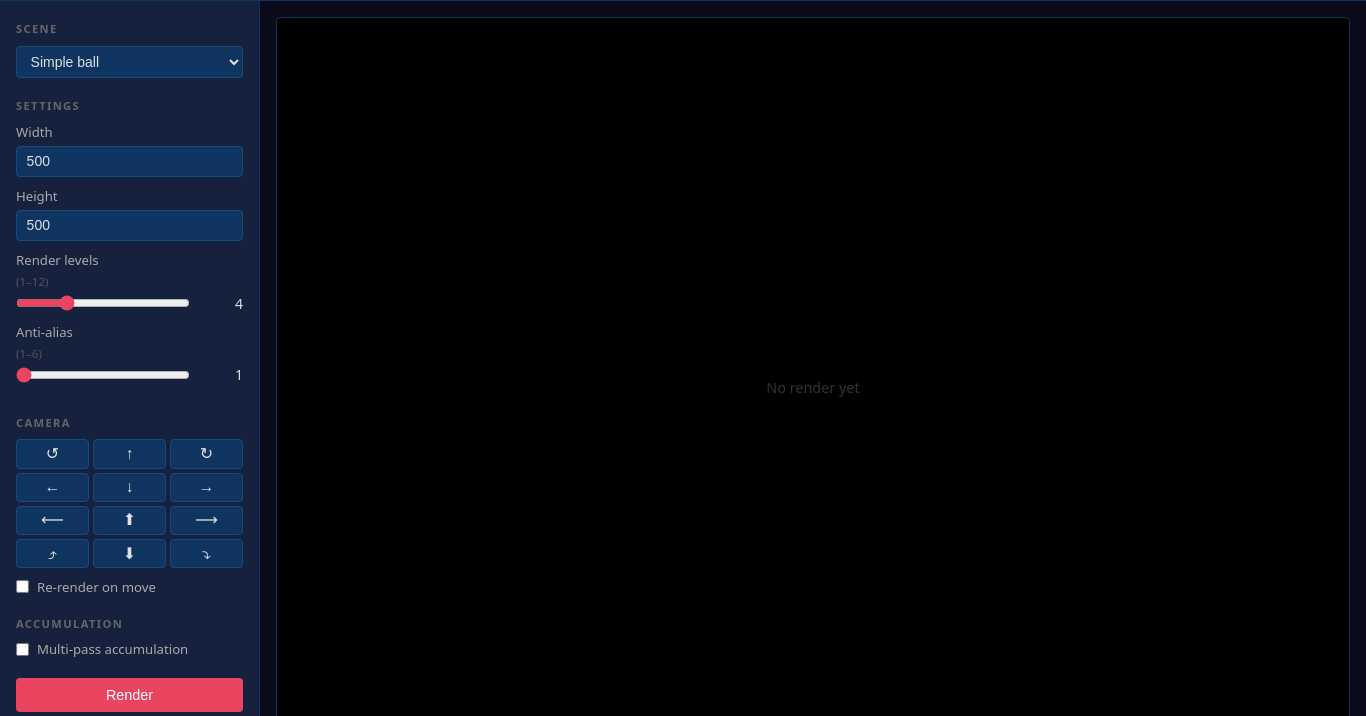
Test: progress polling › shows error message when render fails
Click the button "Render": (130, 695) left=16, top=678, right=243, bottom=712
Wait 500 ms
(page scrolled)
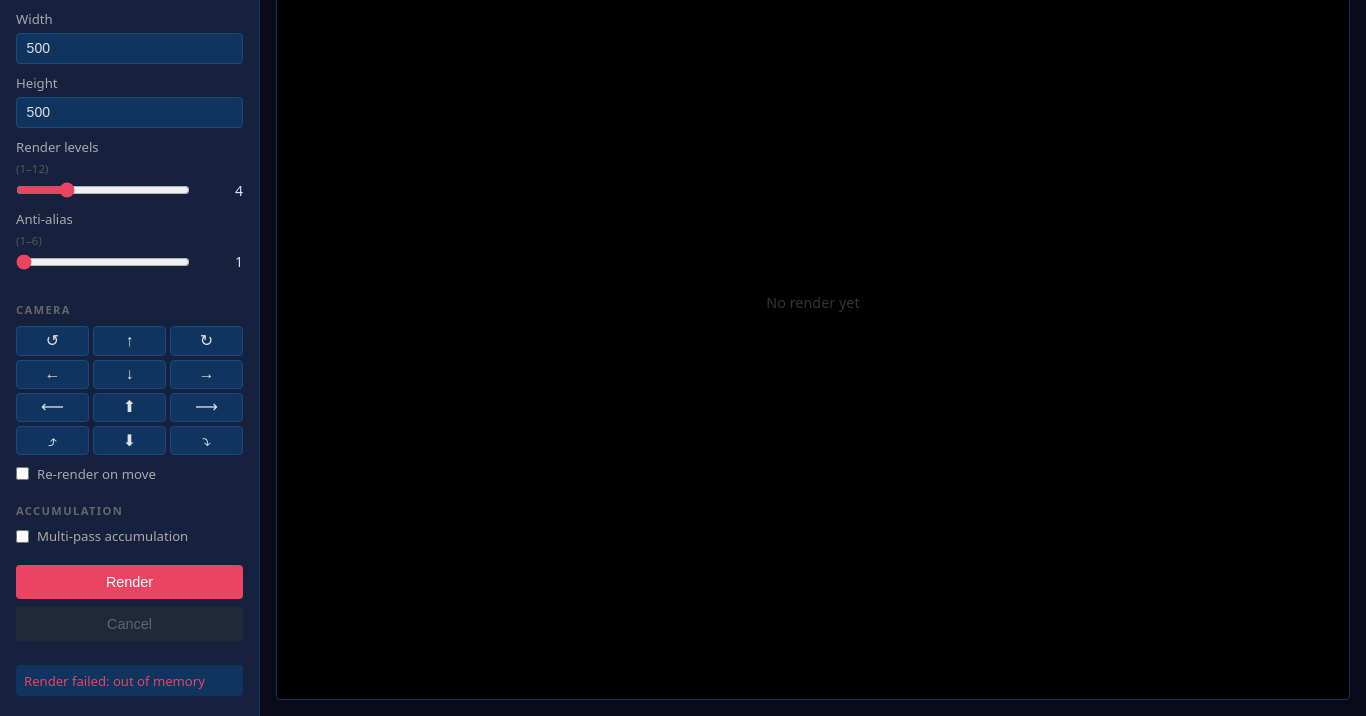
Expected: the text with class "error" shows "out of memory", left=24, top=672, right=205, bottom=690
